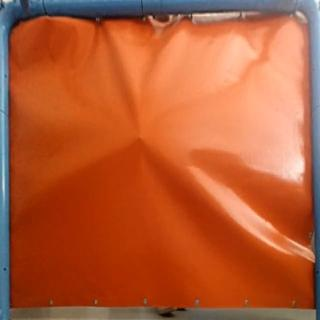Hit-hRxx: (133, 132, 147, 144)
